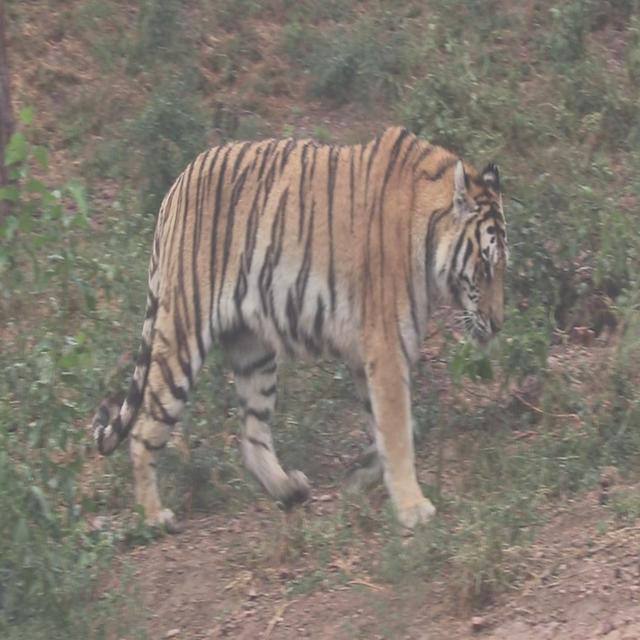tiger: (91, 123, 509, 539)
